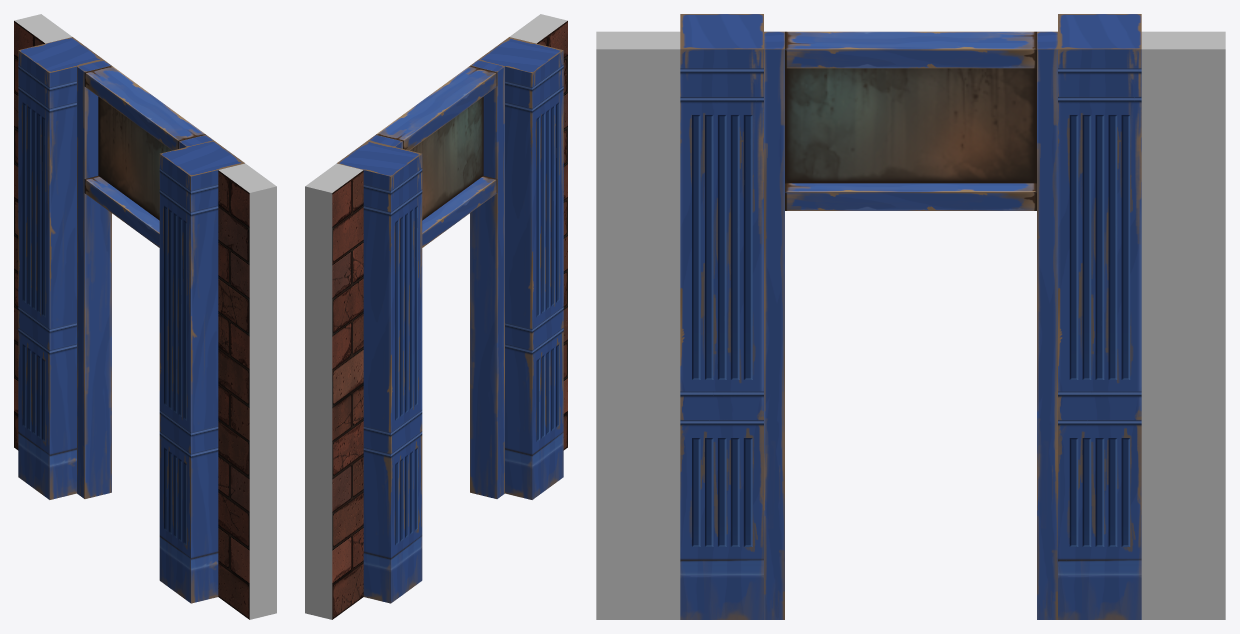
The model's file is storeFront01_entrance.FBX.
The picture shows the model from 3 angles, left to right: view 1: azimuth 30°, elevation 25°; view 2: azimuth 150°, elevation 25°; view 3: azimuth 270°, elevation 25°; orthographic projection. The views are drawn at different scales.
Parts seen in each view (by area): view 1: storeFront01_entrance, storeFront01_entrance_glass; view 2: storeFront01_entrance, storeFront01_entrance_glass; view 3: storeFront01_entrance, storeFront01_entrance_glass.
Boxes of the visible parts, x1,y1,x2,y2 form: storeFront01_entrance: [14, 14, 276, 619]; storeFront01_entrance_glass: [98, 97, 171, 220]; storeFront01_entrance: [305, 14, 567, 619]; storeFront01_entrance_glass: [410, 97, 483, 220]; storeFront01_entrance: [596, 14, 1225, 619]; storeFront01_entrance_glass: [785, 68, 1036, 183].
Size of the model in its own units: 40 by 300 by 300.
